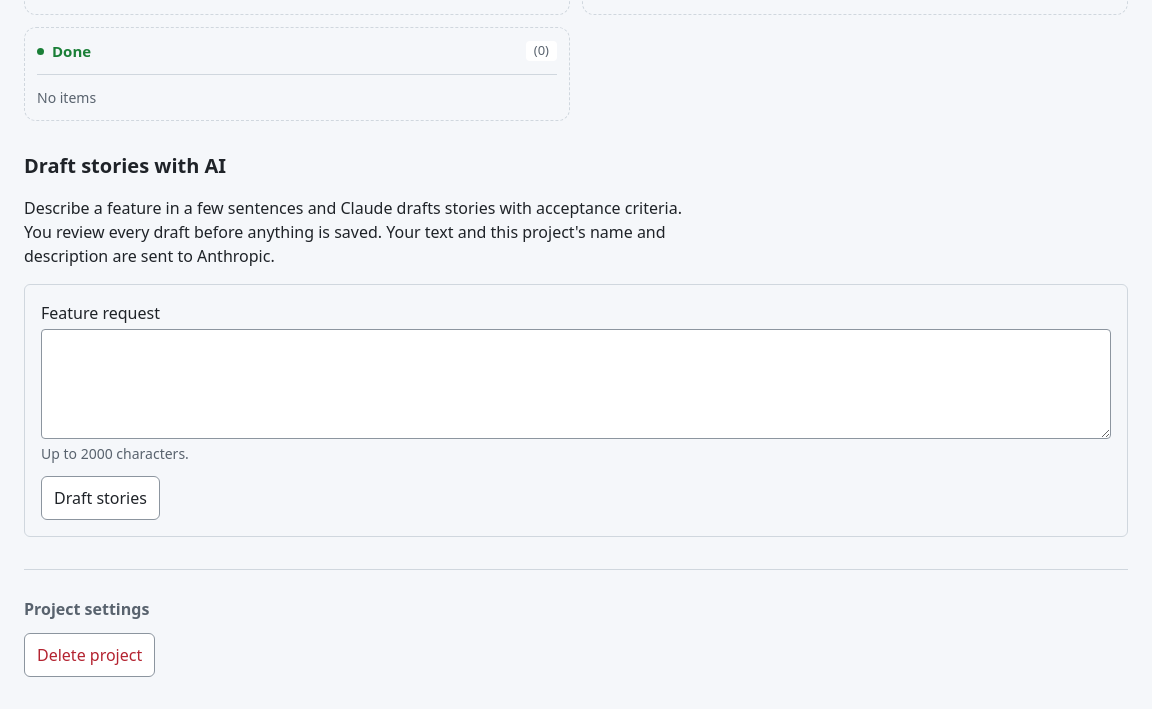
Scenario: AI story drafter › checks the request before sending it
The width and height of the screenshot is (1152, 709).
(page scrolled)
Click the button "Draft stories" at (100,498), box [41, 476, 160, 520]
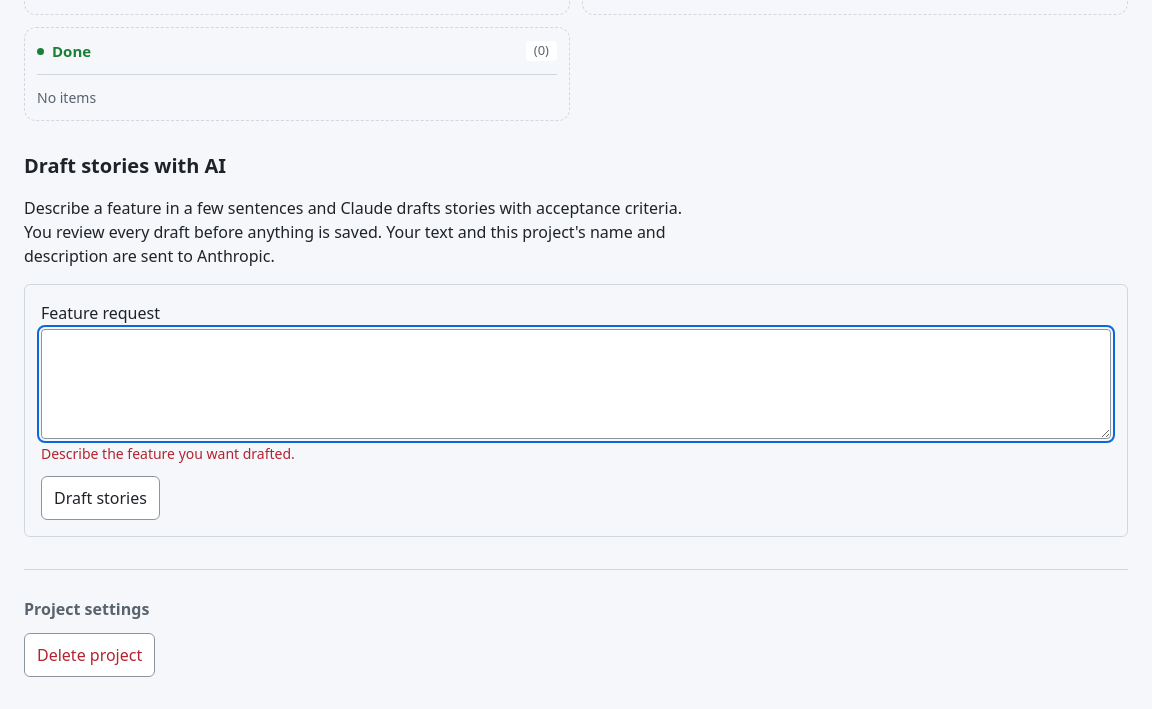
Check: the text "Describe the feature you want drafted." is shown, box [41, 444, 295, 463]
